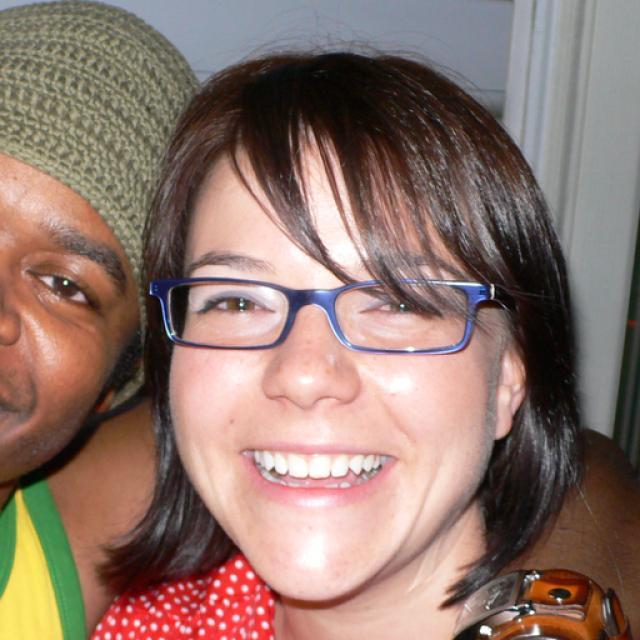happy: (171, 136, 490, 595), (0, 154, 145, 482)
